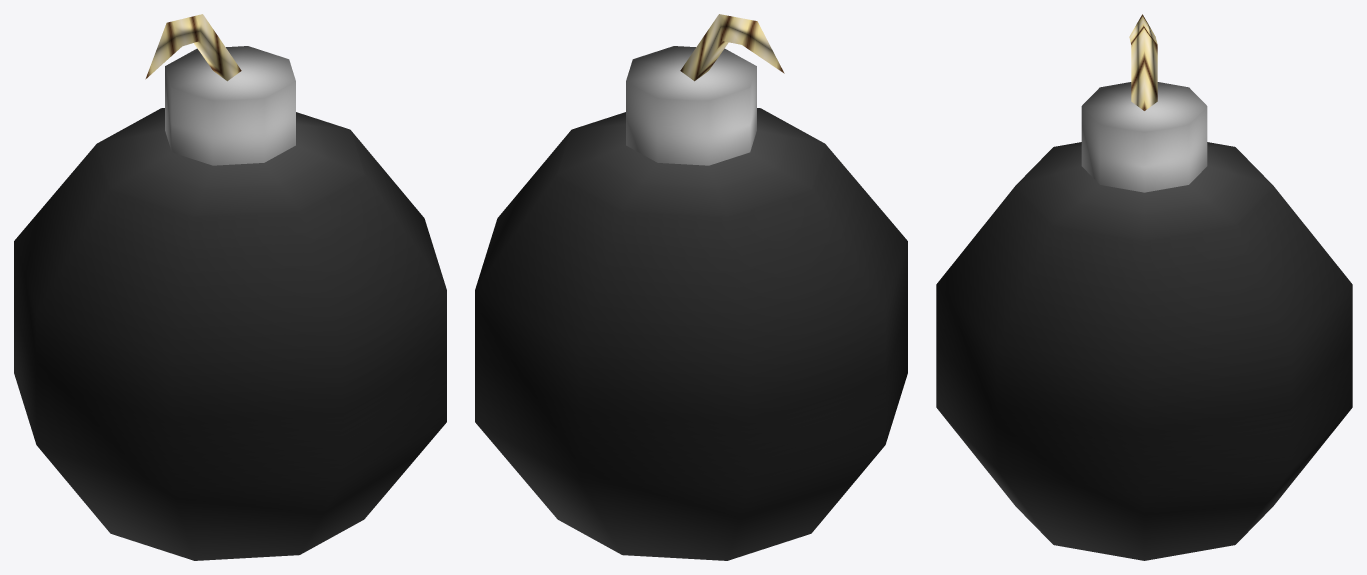
Rendered from BombBall.fbx.
The picture shows the model from 3 angles, left to right: view 1: azimuth 30°, elevation 25°; view 2: azimuth 150°, elevation 25°; view 3: azimuth 270°, elevation 25°; orthographic projection. The views are drawn at different scales.
Parts seen in each view (by area): view 1: BombBall, BombTop, BombWick; view 2: BombBall, BombTop, BombWick; view 3: BombBall, BombTop, BombWick.
Part boxes in pixels (x1=…): BombBall: x1=14, y1=108, x2=446, y2=560; BombTop: x1=165, y1=46, x2=295, y2=165; BombWick: x1=145, y1=14, x2=241, y2=81; BombBall: x1=475, y1=108, x2=907, y2=560; BombTop: x1=626, y1=46, x2=756, y2=165; BombWick: x1=680, y1=14, x2=784, y2=81; BombBall: x1=936, y1=142, x2=1352, y2=560; BombTop: x1=1081, y1=82, x2=1207, y2=192; BombWick: x1=1129, y1=14, x2=1157, y2=110.
Bounding box in the file's own units: 0.9511 × 1.26 × 0.9511.
